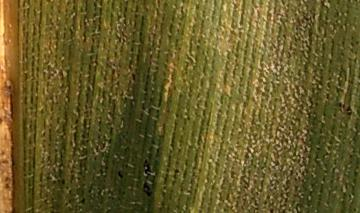tarspot: (142, 157, 154, 197), (318, 1, 329, 10), (345, 105, 353, 117), (116, 168, 124, 179), (293, 202, 301, 213), (130, 72, 137, 82), (173, 167, 180, 174), (334, 10, 341, 17), (110, 67, 116, 75), (313, 100, 319, 107), (331, 112, 337, 119), (348, 41, 355, 47), (348, 47, 354, 54), (325, 92, 330, 100), (268, 207, 274, 213), (352, 206, 357, 213), (280, 208, 286, 213), (337, 101, 341, 107), (44, 1, 51, 3)
